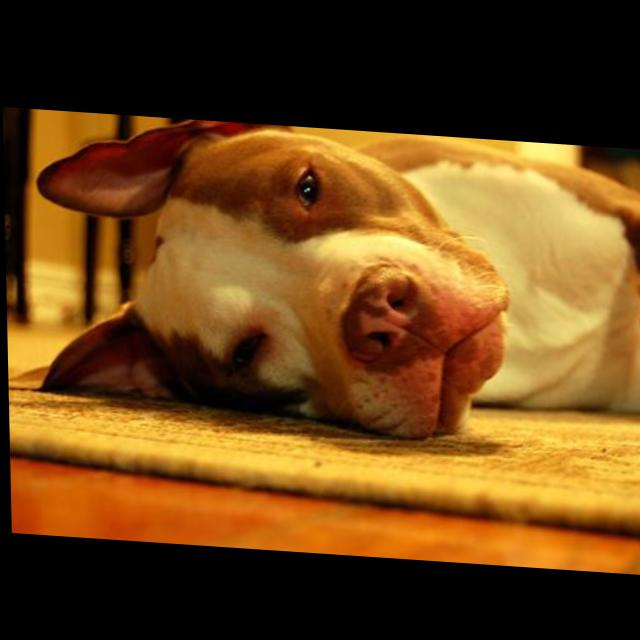amstaff: (19, 109, 640, 448)
